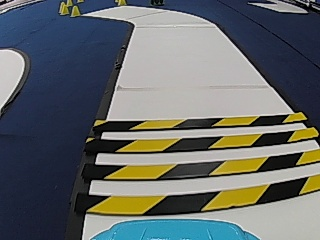bump: (82, 106, 315, 211)
